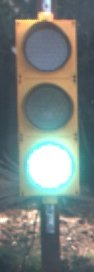Green: (14, 7, 84, 206)
